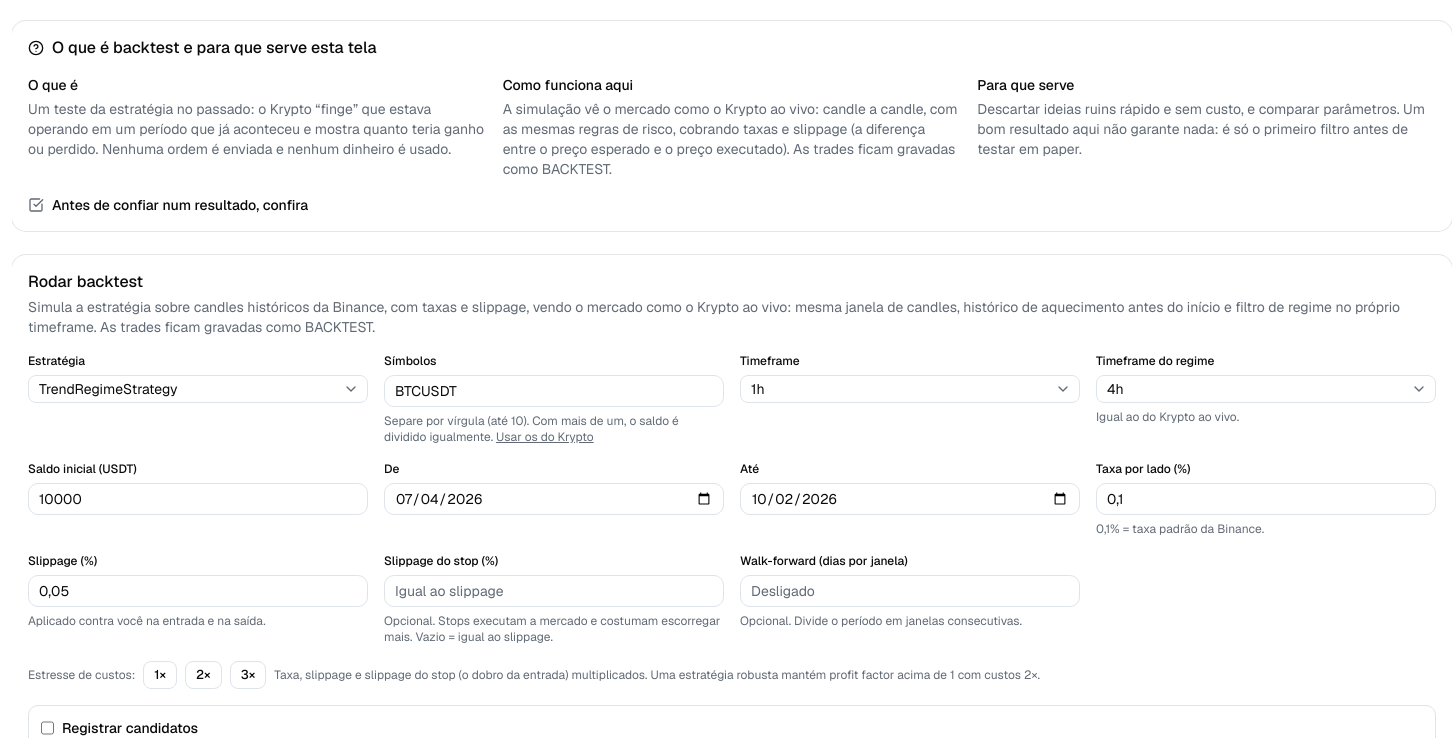
Test: BacktestsView › fills the bot's symbols with one click and sends them all
What coordinates should you click on to do the following:
click the button "Usar os do Krypto"
I would click on:
 (545, 437)
Its box is [496, 429, 594, 445].
(page scrolled)
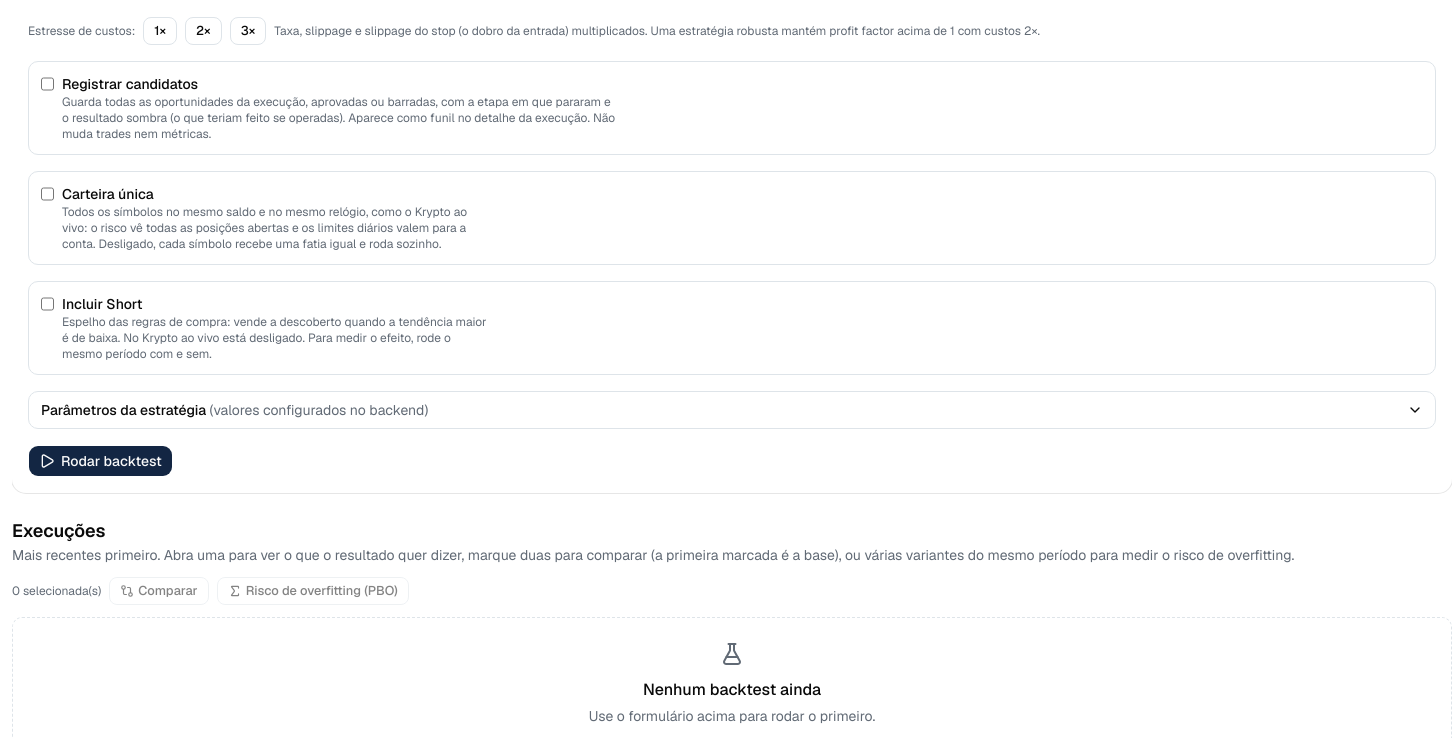
What coordinates should you click on to do the following:
click the button "Rodar backtest"
I would click on:
 (100, 461)
Its box is [28, 445, 173, 477].
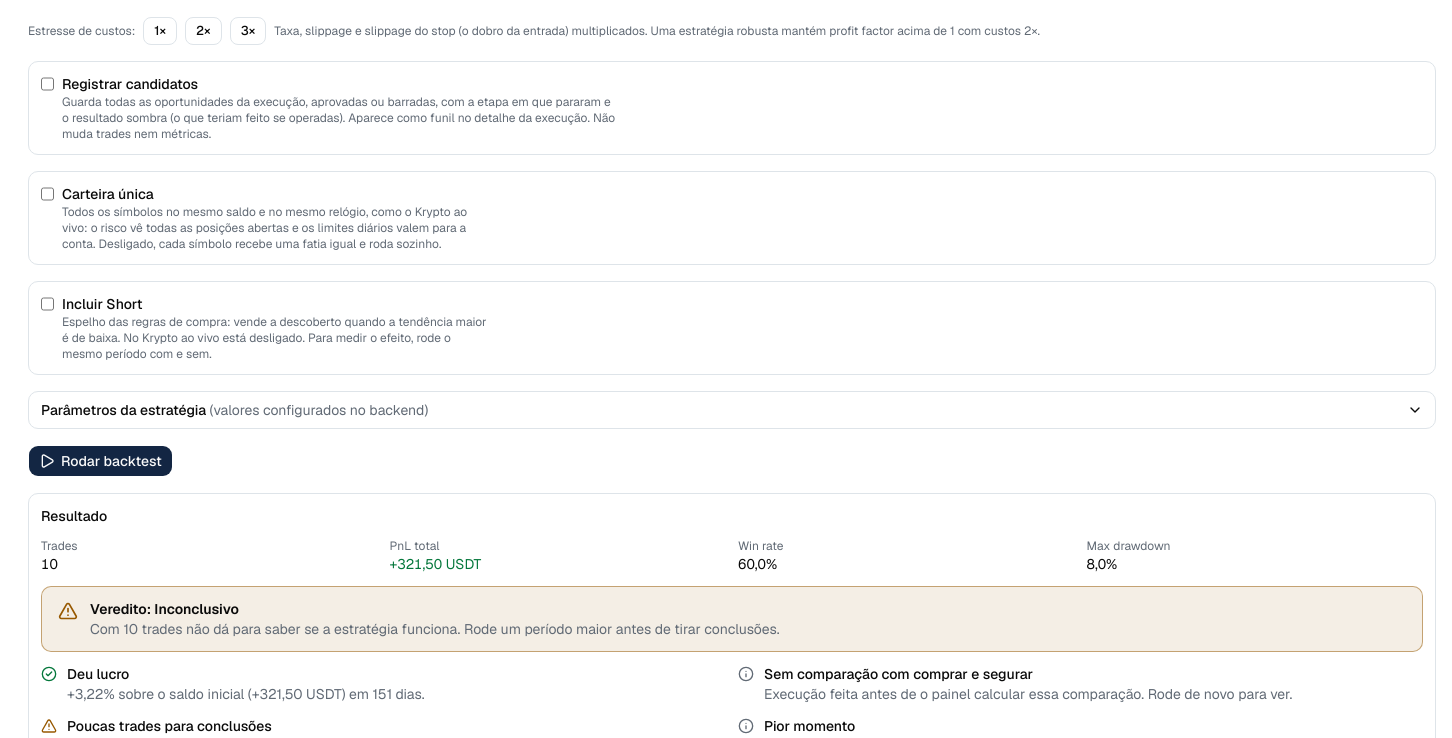
Check: the text "Resultado" is shown, box [41, 507, 107, 525]
